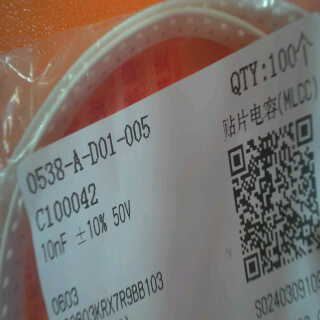10nF: (37, 228, 68, 264)
